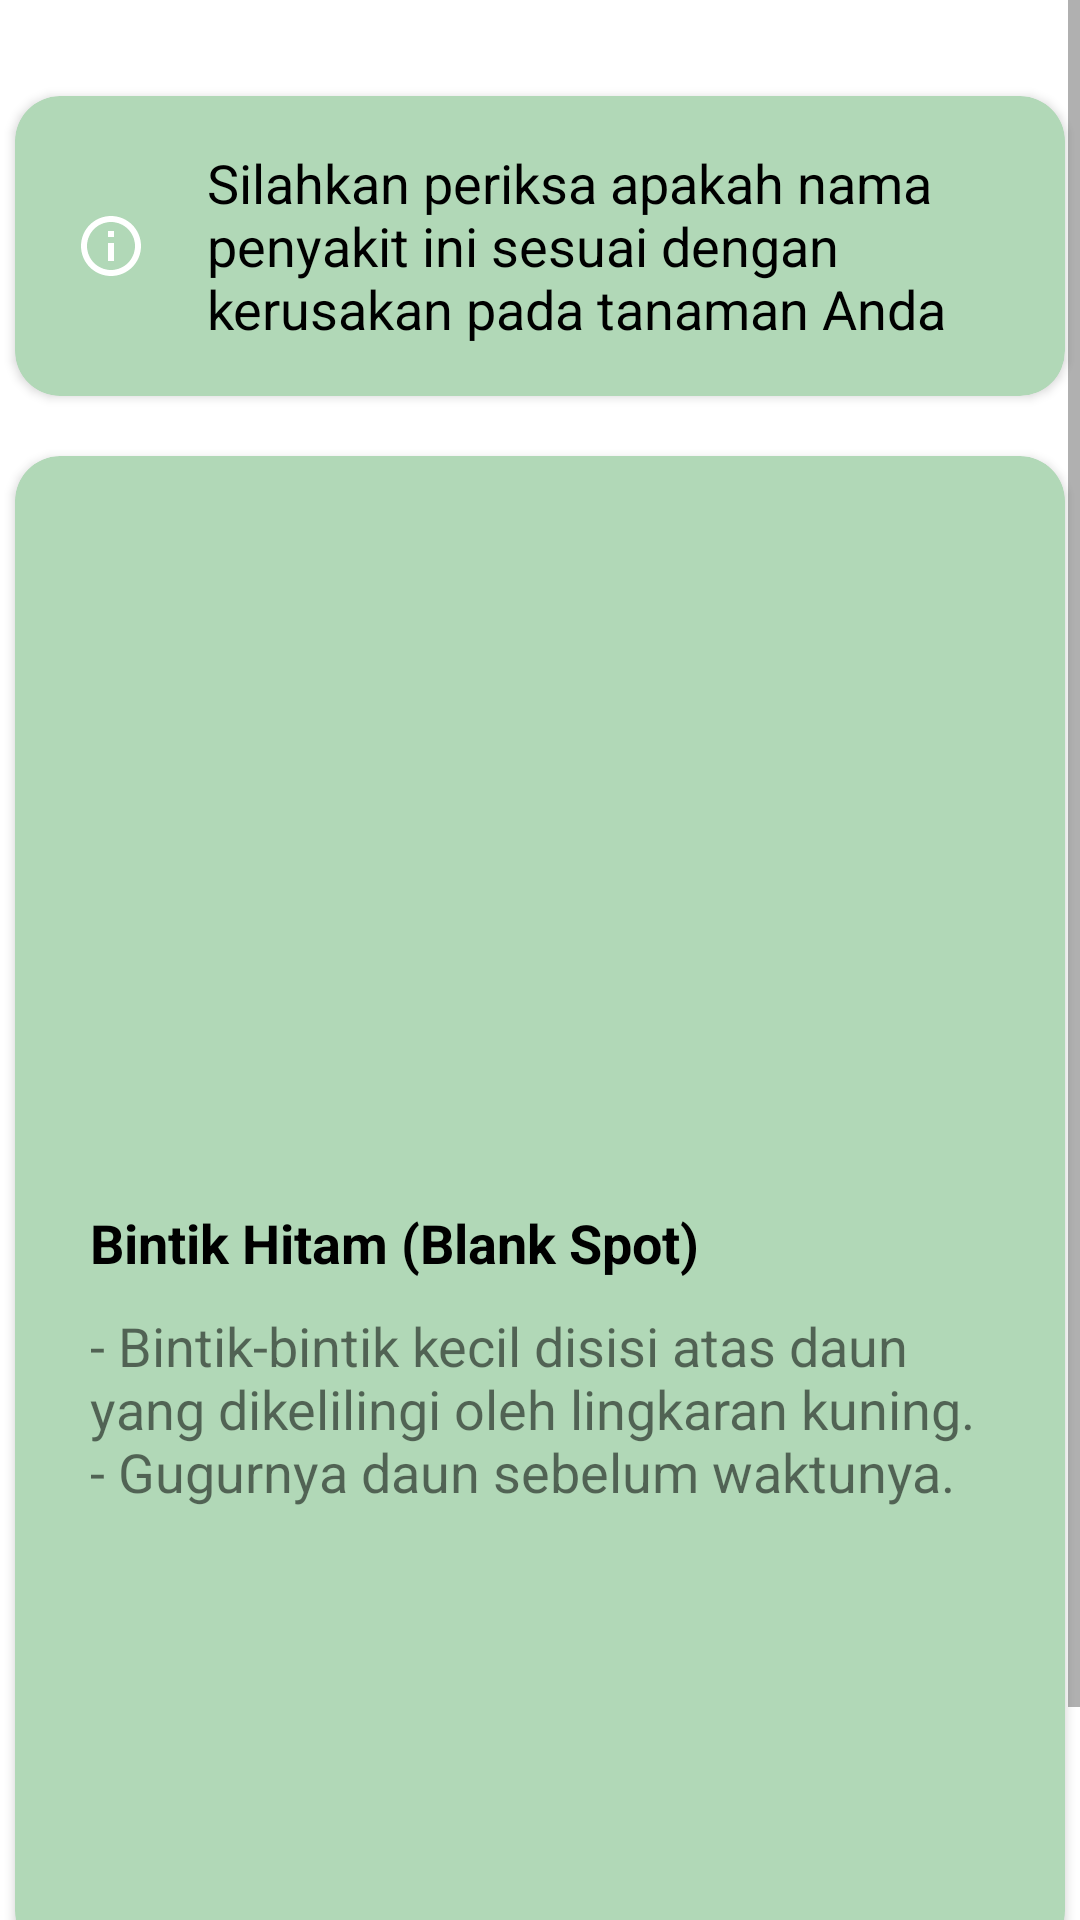

Named icons in this screenshot (1080w x 1920h) and their bounding boxes, [left=x1, top=y1, right=x2, bottom=y2]:
info: [left=81, top=216, right=141, bottom=276]
